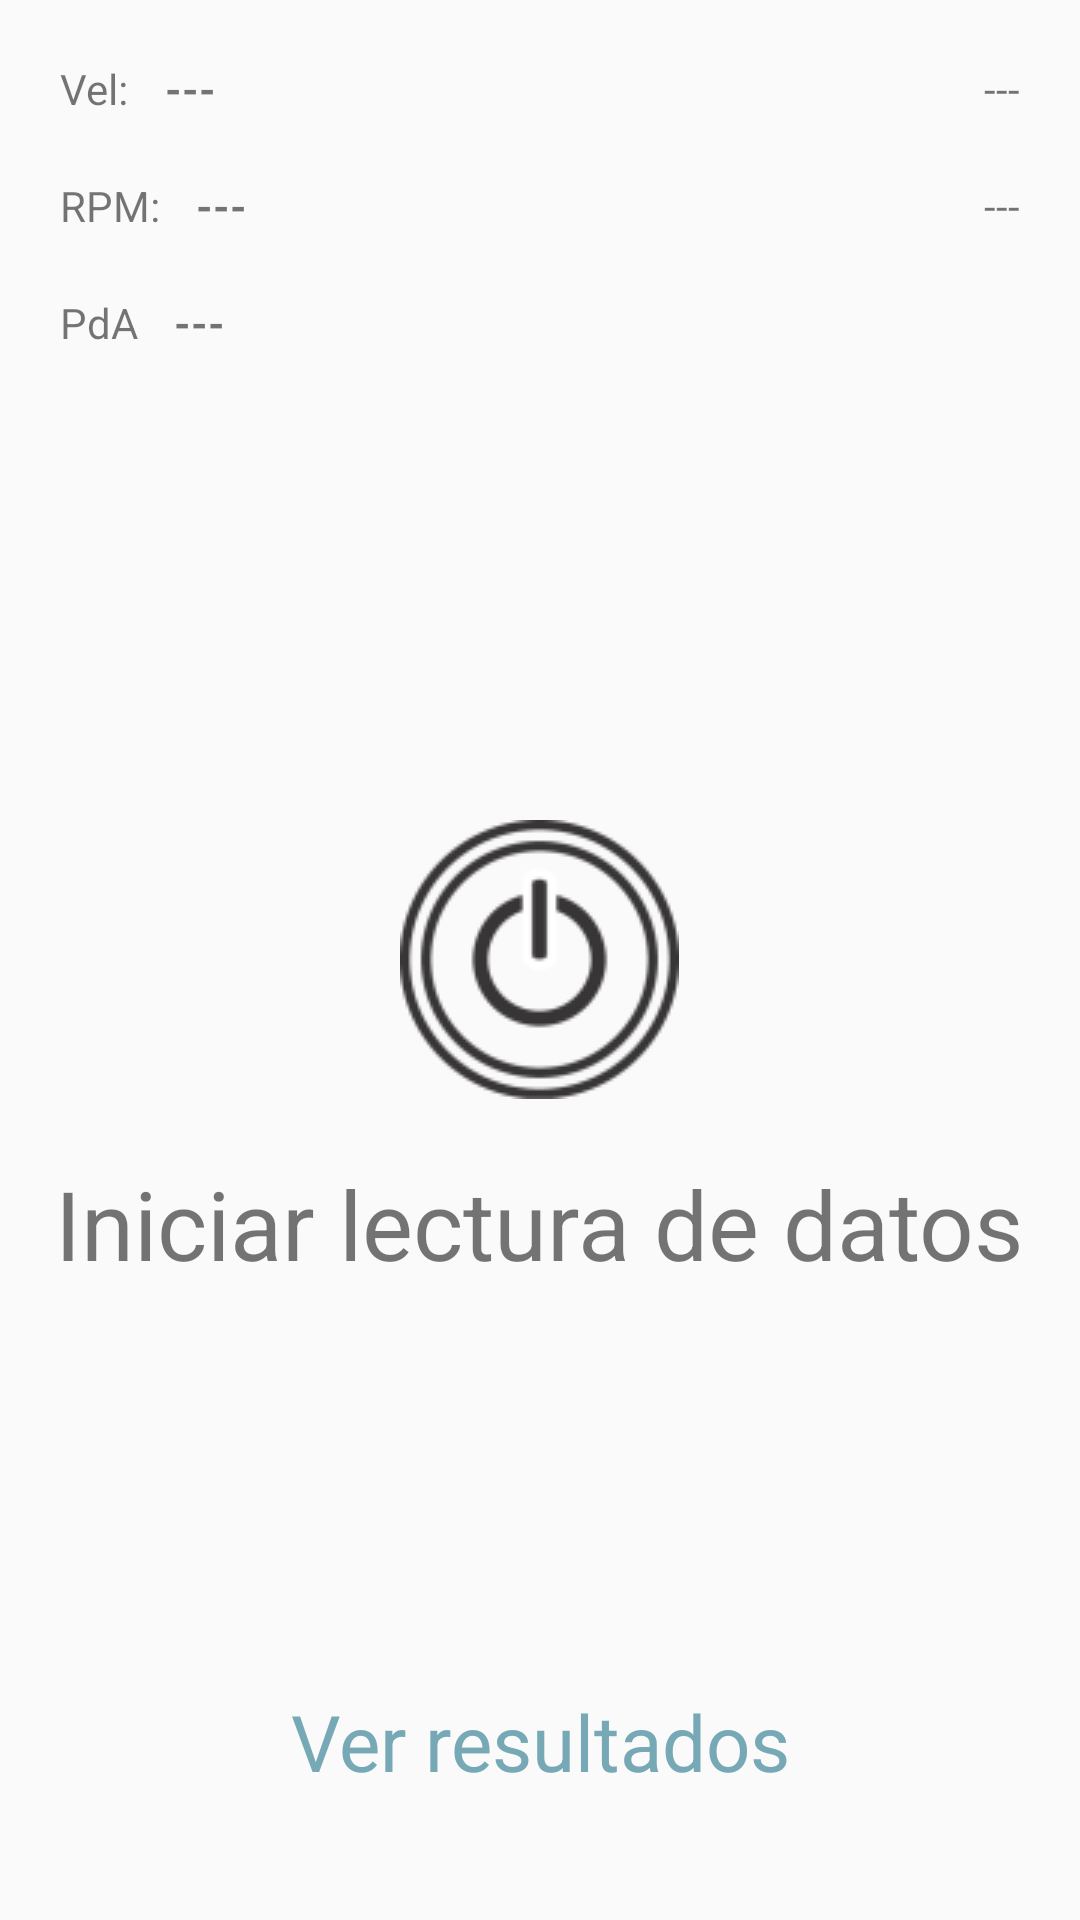

Named icons in this screenshot (1080px×1920px) and their bounding boxes, (left=x1, top=y1, right=x2, bottom=y2):
off: (left=400, top=820, right=679, bottom=1099)
